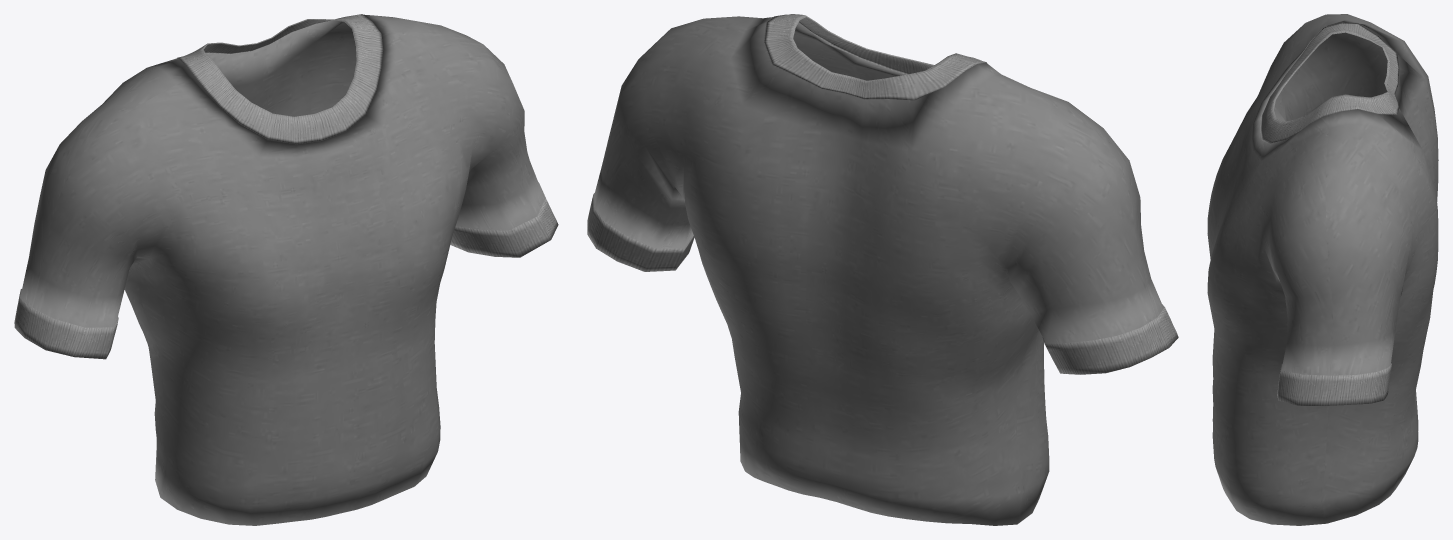
Rendered from toigo-basic-tucked-t-shirt.glb.
3 renders of one model, left to right at view 1: azimuth 30°, elevation 25°; view 2: azimuth 150°, elevation 25°; view 3: azimuth 270°, elevation 25°, orthographic. The views are drawn at different scales.
Parts seen in each view (by area): view 1: Human.toigo_basic_tucked_t-shirt; view 2: Human.toigo_basic_tucked_t-shirt; view 3: Human.toigo_basic_tucked_t-shirt.
Part boxes in pixels (bbox=[...]): Human.toigo_basic_tucked_t-shirt: bbox=[14, 14, 558, 525]; Human.toigo_basic_tucked_t-shirt: bbox=[587, 14, 1178, 525]; Human.toigo_basic_tucked_t-shirt: bbox=[1207, 14, 1438, 525].
Bounding box in the file's own units: 0.6324 × 0.4942 × 0.2507.
Materials: 1 (1 with a texture image).
